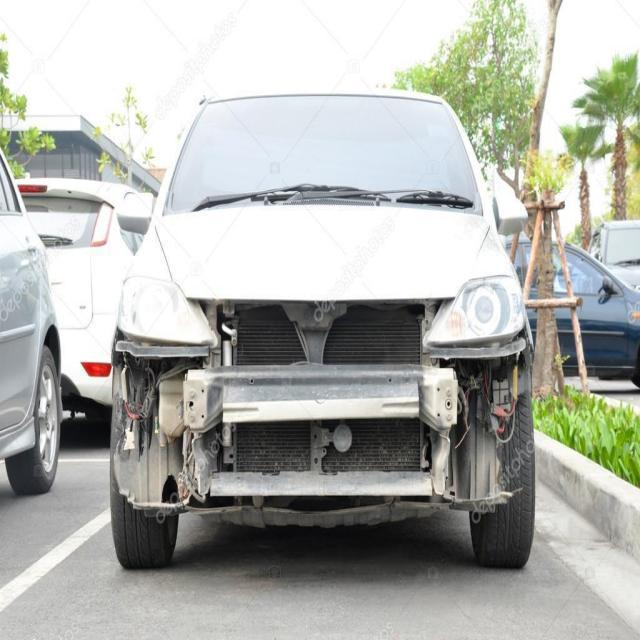damaged: (110, 294, 530, 518)
